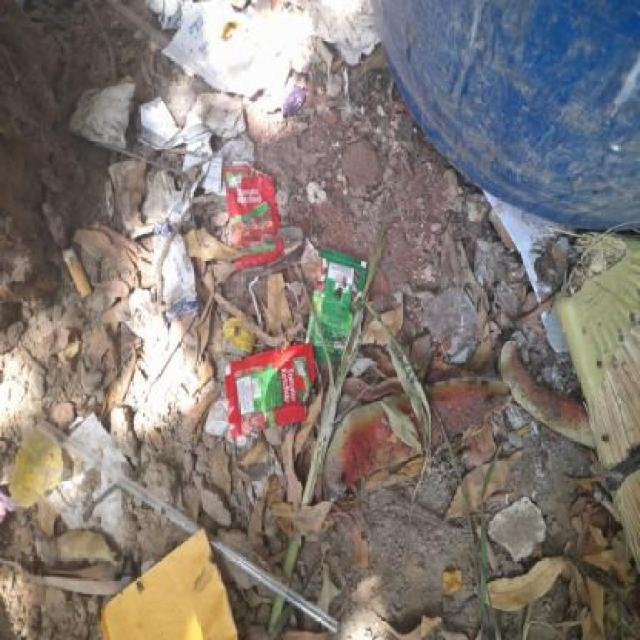garbage: (3, 5, 640, 640)
